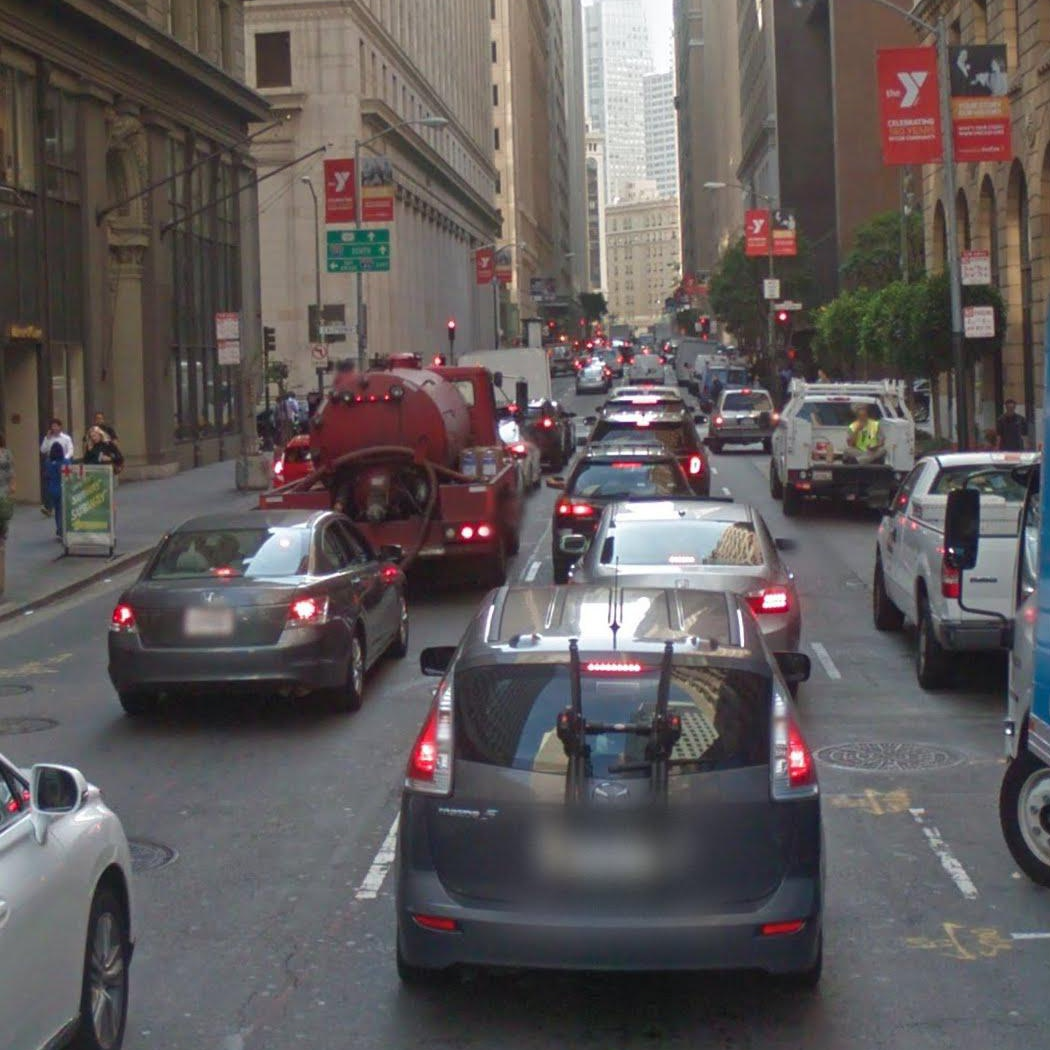No Parking: (959, 246, 993, 287), (962, 305, 997, 339)
